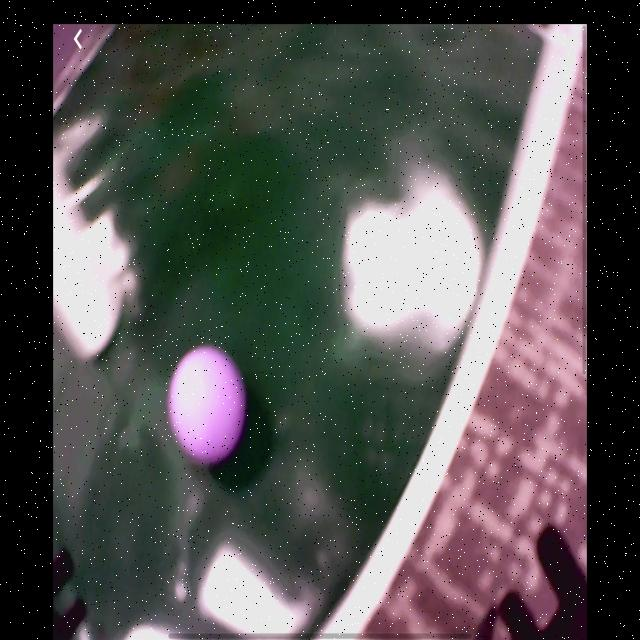ball: (169, 350, 247, 462)
